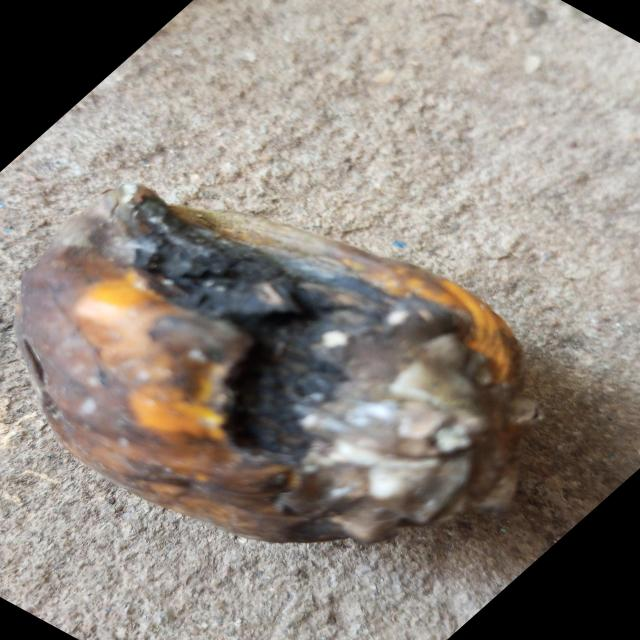damaged: (15, 183, 539, 542)
